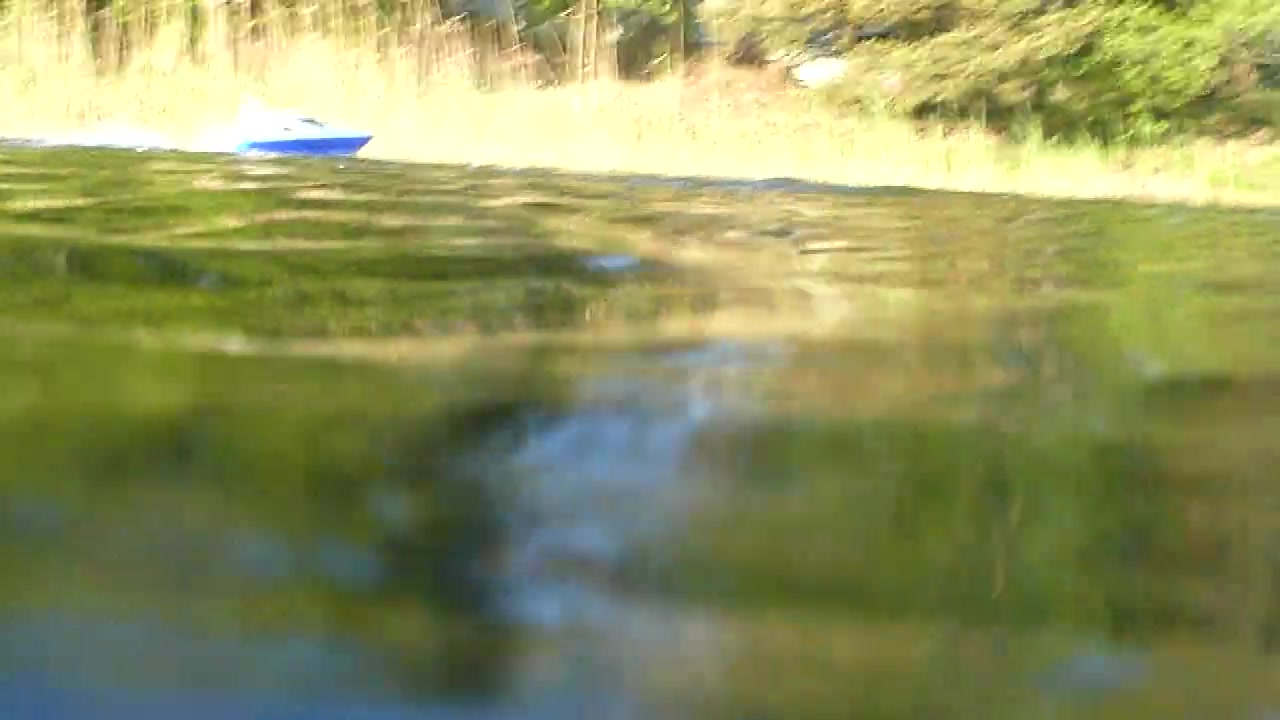boat: (237, 114, 377, 164)
